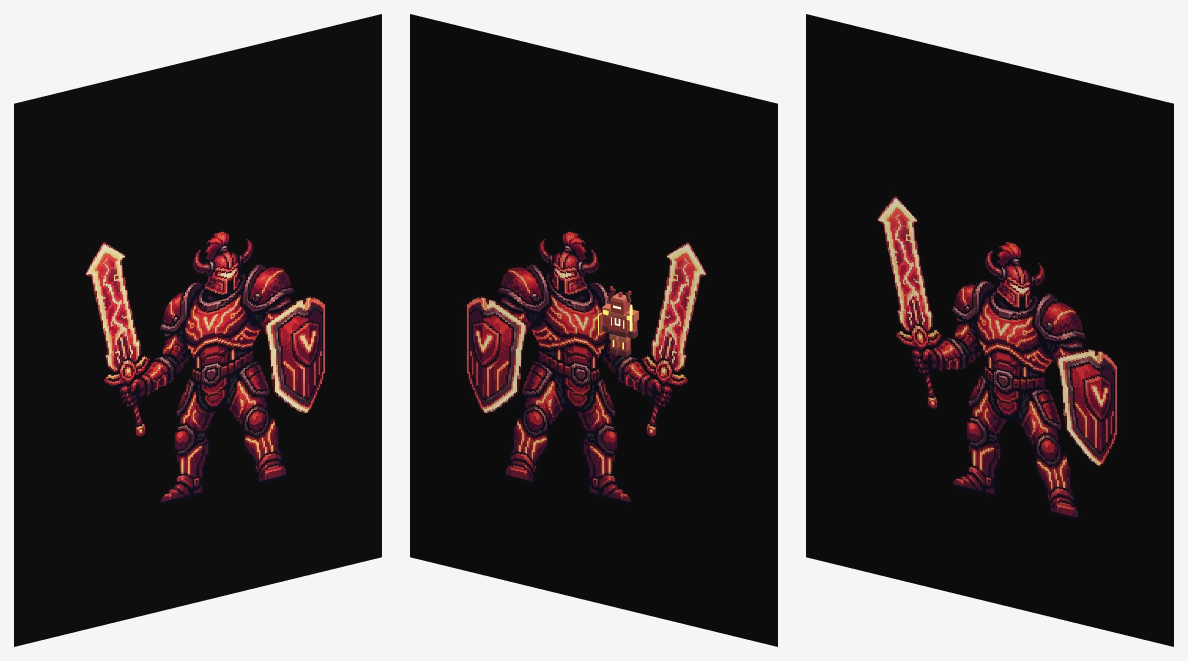
Rendered from Guerreiro8bit.glb.
3 views of the same model, side by side, from view 1: azimuth 30°, elevation 25°; view 2: azimuth 150°, elevation 25°; view 3: azimuth 330°, elevation 25° (orthographic).
Parts seen in each view (by area): view 1: Referencia; view 2: Referencia; view 3: Referencia.
Boxes of the visible parts, x1,y1,x2,y2 form: Referencia: (14,14,381,646); Referencia: (410,14,777,646); Referencia: (806,14,1173,646).
Bounding box in the file's own units: 102 × 144 × 10.5.
Materials: 7 (1 with a texture image).
